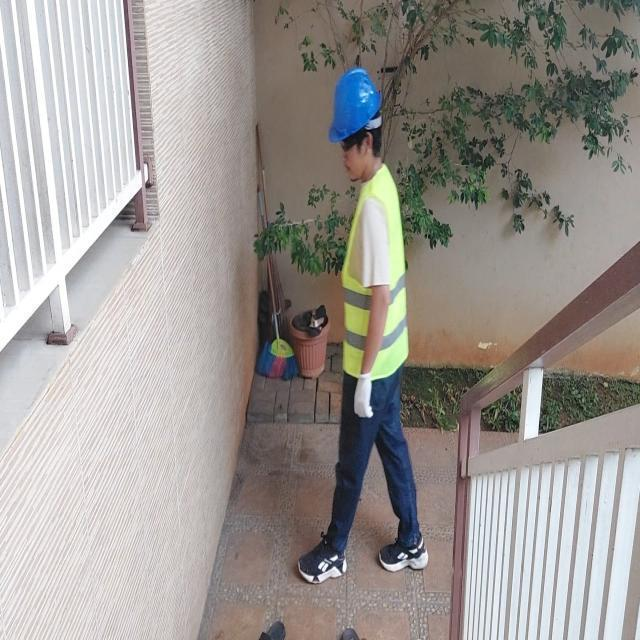Capacete: (329, 68, 381, 142)
Colete: (342, 164, 407, 379)
